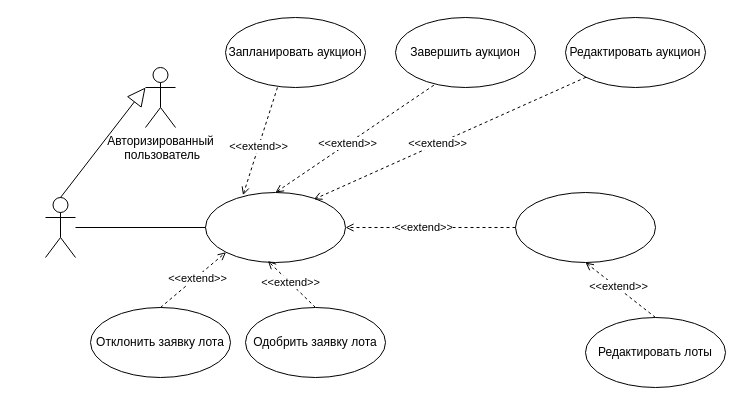
The diagram is 743 pixels wide and 405 high, and some of its shapes have lost their labels. The shapes that lost their labels are listed below. From the top down, each one's box as (x1, y1, x2, y2) in pixels, then its label:
(44, 196, 76, 258): Администратор
(204, 192, 346, 262): Просмотреть аукционы
(514, 192, 656, 262): Просмотреть лоты
